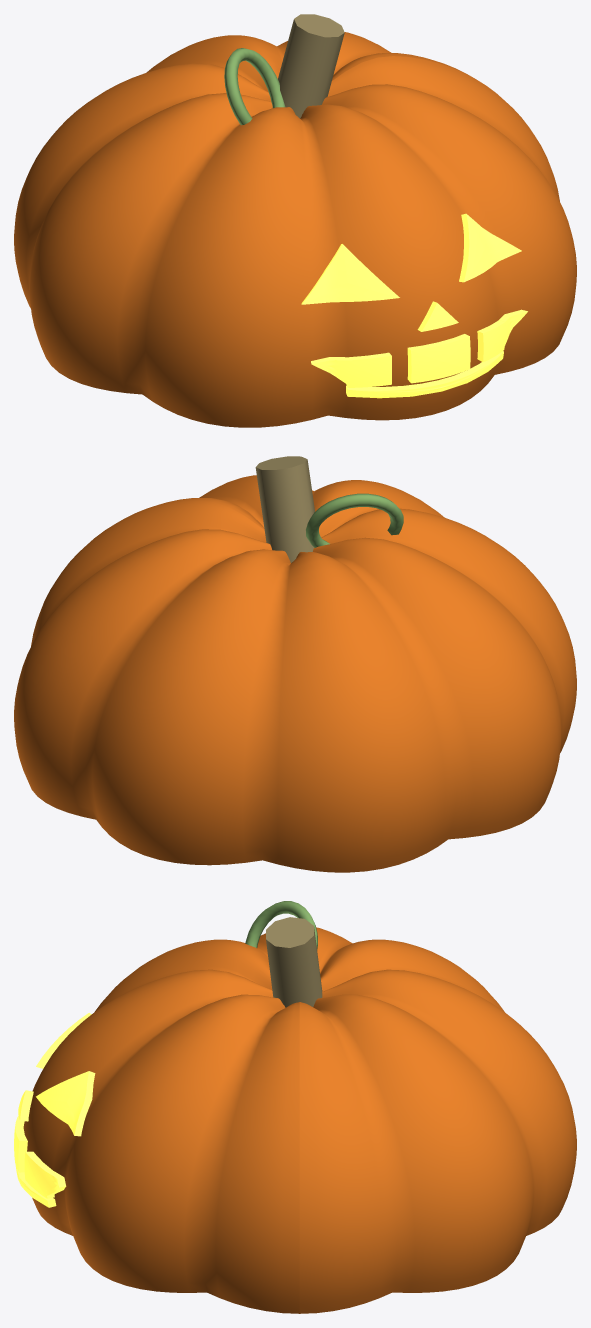
File: pumpkin-cap-halloween-2026.glb
3 renders of one model, top to bottom at view 1: azimuth 30°, elevation 25°; view 2: azimuth 150°, elevation 25°; view 3: azimuth 270°, elevation 25°, orthographic. The views are drawn at different scales.
Parts seen in each view (by area): view 1: shell, carving, stem, vine; view 2: shell, stem, vine; view 3: shell, carving, stem, vine.
Part boxes in pixels (x1,y1,x2,y2): shell: (14,32,576,427); carving: (301,213,527,398); stem: (278,14,344,118); vine: (224,48,285,125); shell: (14,475,576,872); stem: (255,456,314,562); vine: (306,493,403,547); shell: (23,927,576,1313); carving: (14,1013,95,1207); stem: (266,917,322,1007); vine: (245,901,317,949).
Bounding box in the file's own units: 0.2399 × 0.1356 × 0.2436.
